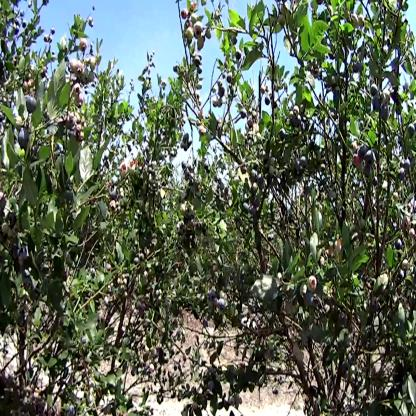intermediate: (69, 57, 83, 77)
mature: (370, 85, 388, 118), (360, 141, 374, 176), (252, 169, 262, 215), (19, 126, 31, 148), (26, 95, 38, 114)
young: (185, 24, 203, 42), (289, 102, 301, 121), (88, 55, 96, 80), (307, 274, 317, 294), (300, 285, 307, 298)
